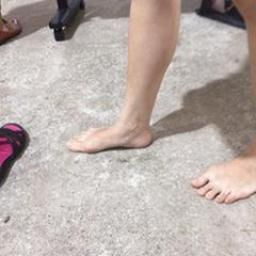Medial View -Right Foot-: (62, 98, 168, 162)
